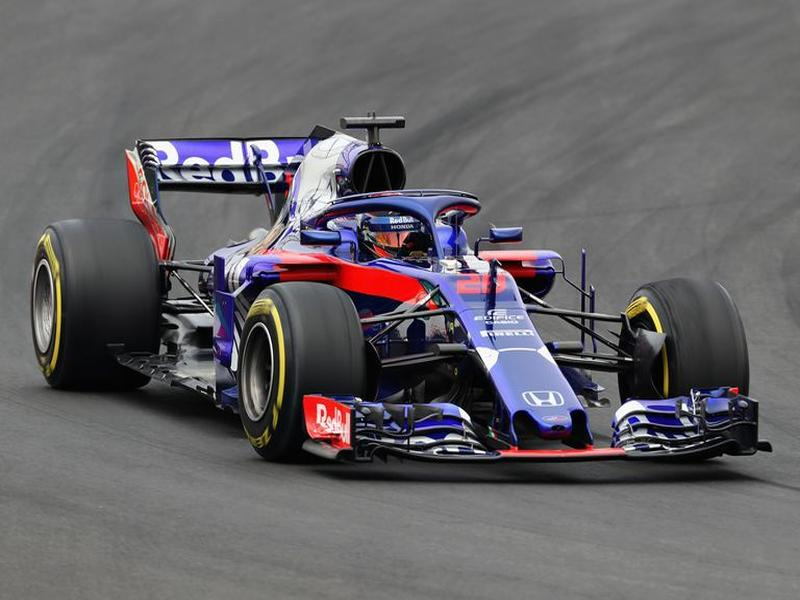f1: (41, 113, 769, 489)
